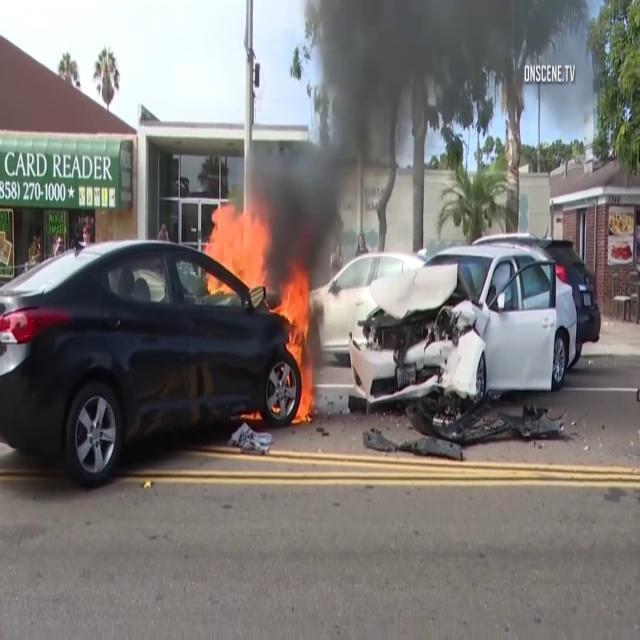Fire: (201, 190, 275, 308), (279, 262, 322, 420)
Smoke: (242, 0, 476, 280)
